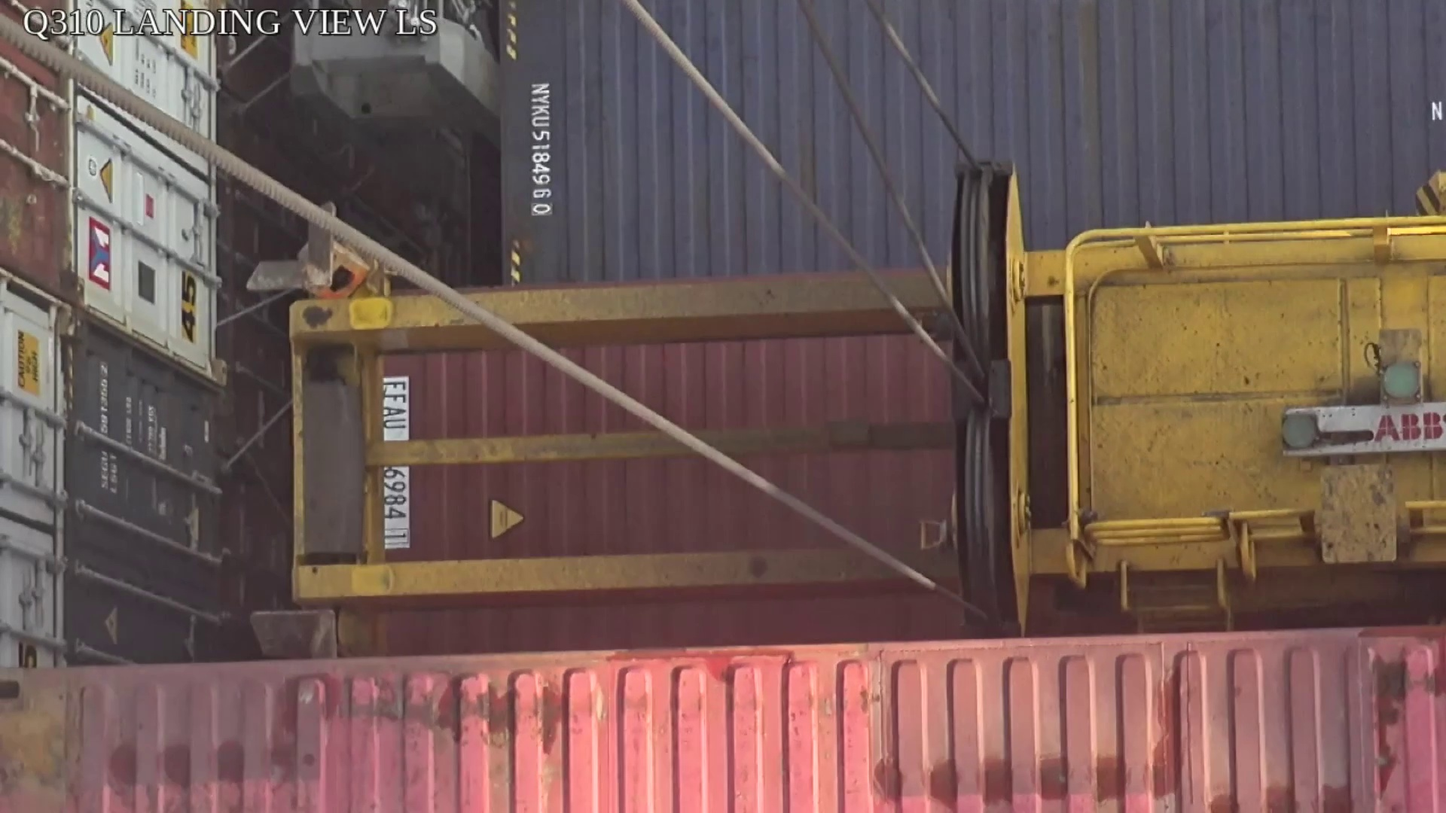aa: (951, 159, 1036, 638)
